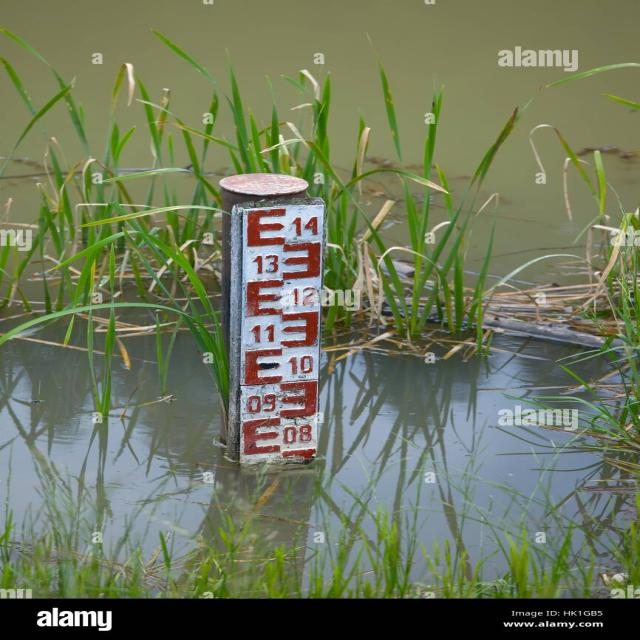ruler: (229, 195, 334, 471)
value: (286, 211, 327, 240), (284, 349, 320, 379), (246, 252, 284, 278), (243, 390, 280, 416), (246, 322, 284, 346), (281, 422, 316, 447), (290, 283, 320, 309)
